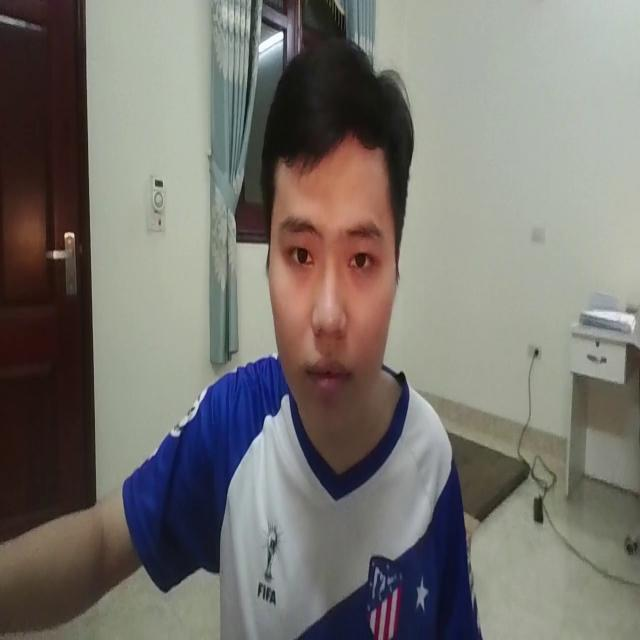student: (96, 13, 496, 640)
